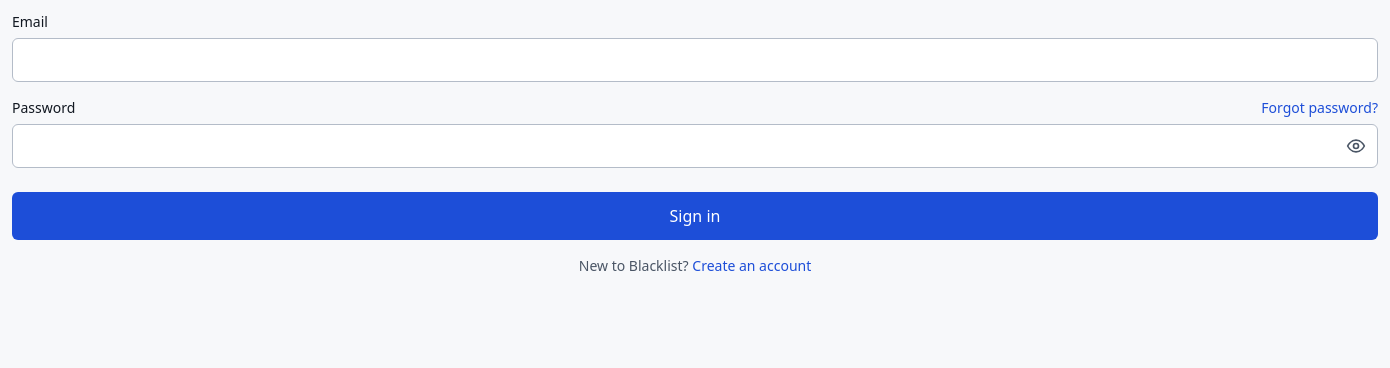
Test: LoginForm › shows a generic failure that does not reveal whether the account exists, and clears the password
The width and height of the screenshot is (1390, 368).
Step 1. Type "someone@example.test" into the field labelled "Email" → (695,60), box [12,38,1378,82]
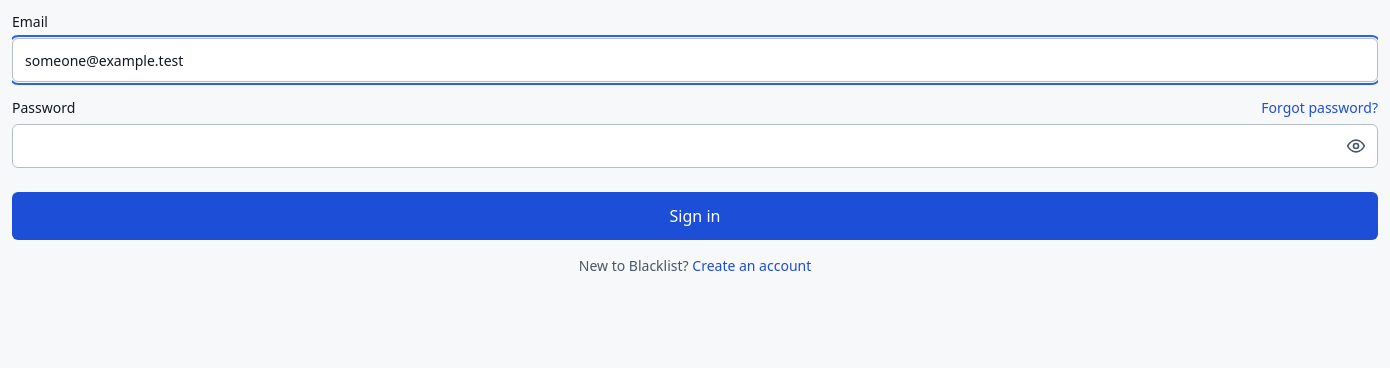
Step 2. Type "wrong password value" into the password field labelled "Password" → (695,146), box [12,124,1378,168]
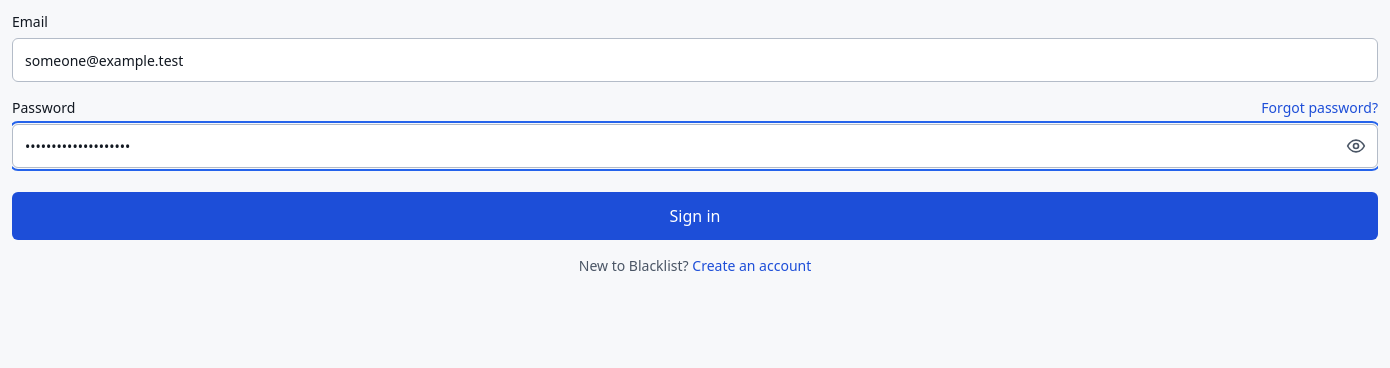
Step 3. Click the button "Sign in" → (695,216), box [12,192,1378,240]
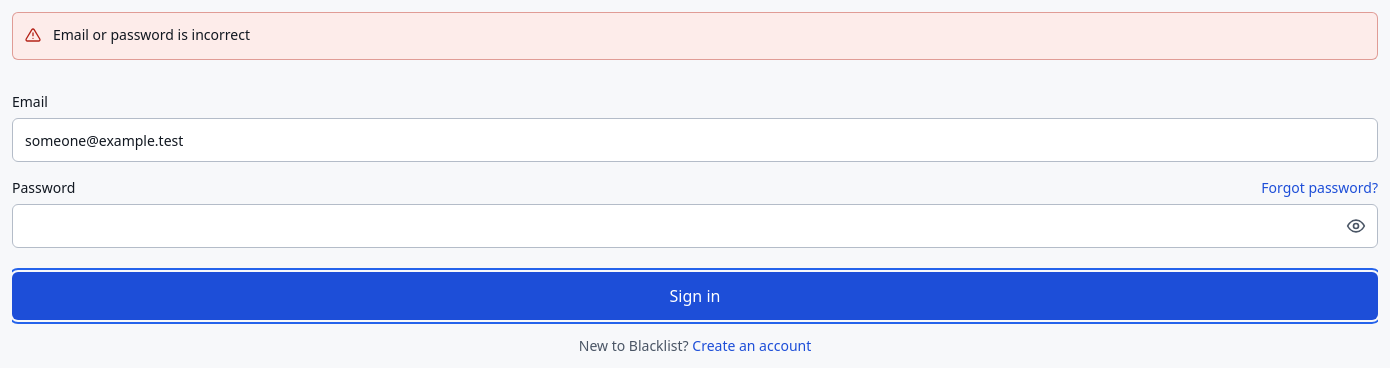
Check: the message reads "Email or password is incorrect", box [53,25,250,44]
Check: the password field labelled "Password" is empty, box [12,204,1378,248]
